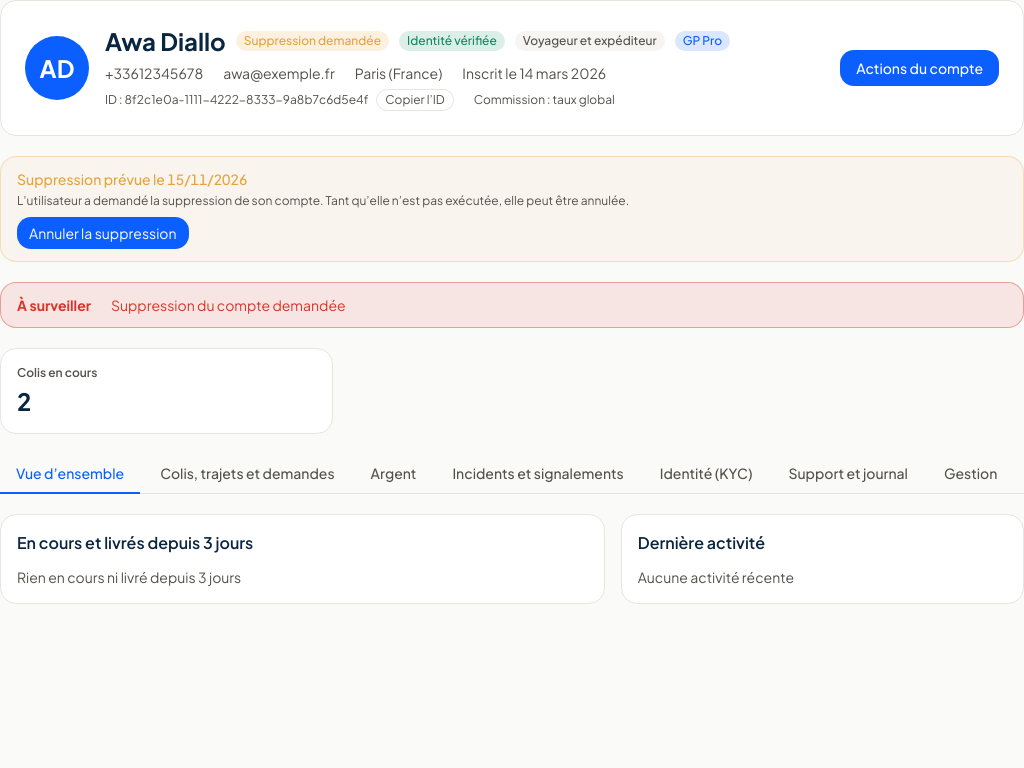
users/[id].vue › bandeaux d’en-tête › endpoint absent : texte à la place du bouton, dialogue fermé
Click the button with test id "action-cancel-deletion".
click(103, 233)  # box [17,217,188,249]
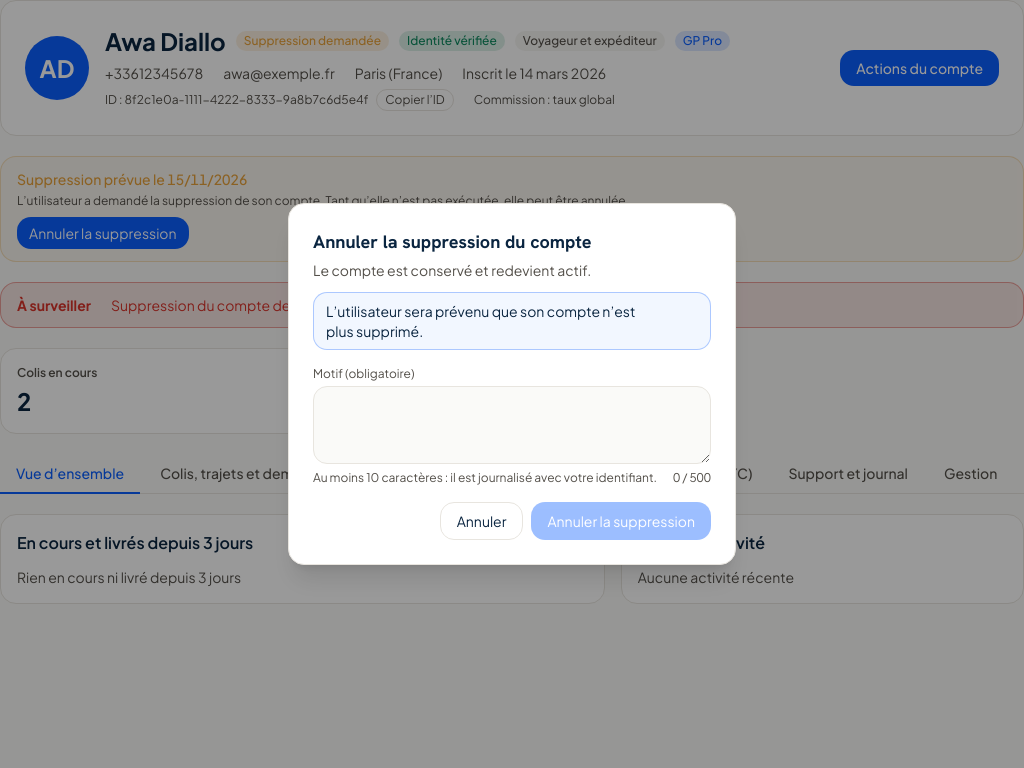
Type "Demande confirmée par téléphone" into the text box with test id "restore-reason".
click(512, 425); type("Demande confirmée par téléphone")  # box [313,386,711,464]
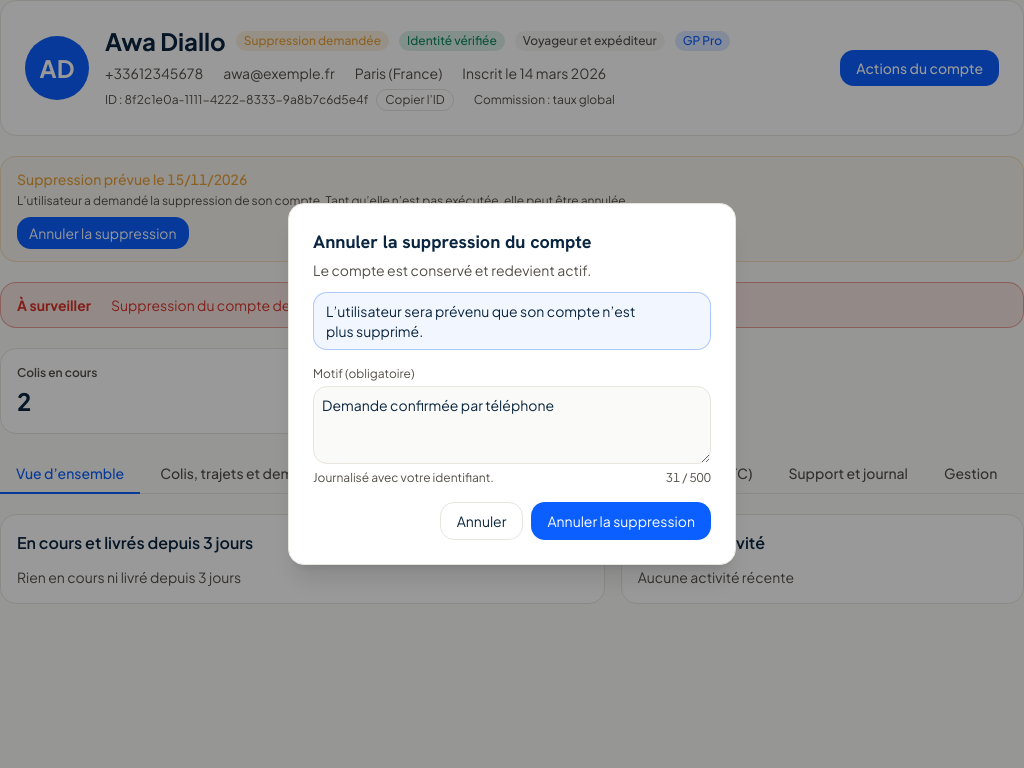
Click the button with test id "restore-confirm".
click(621, 521)  # box [532,502,711,540]
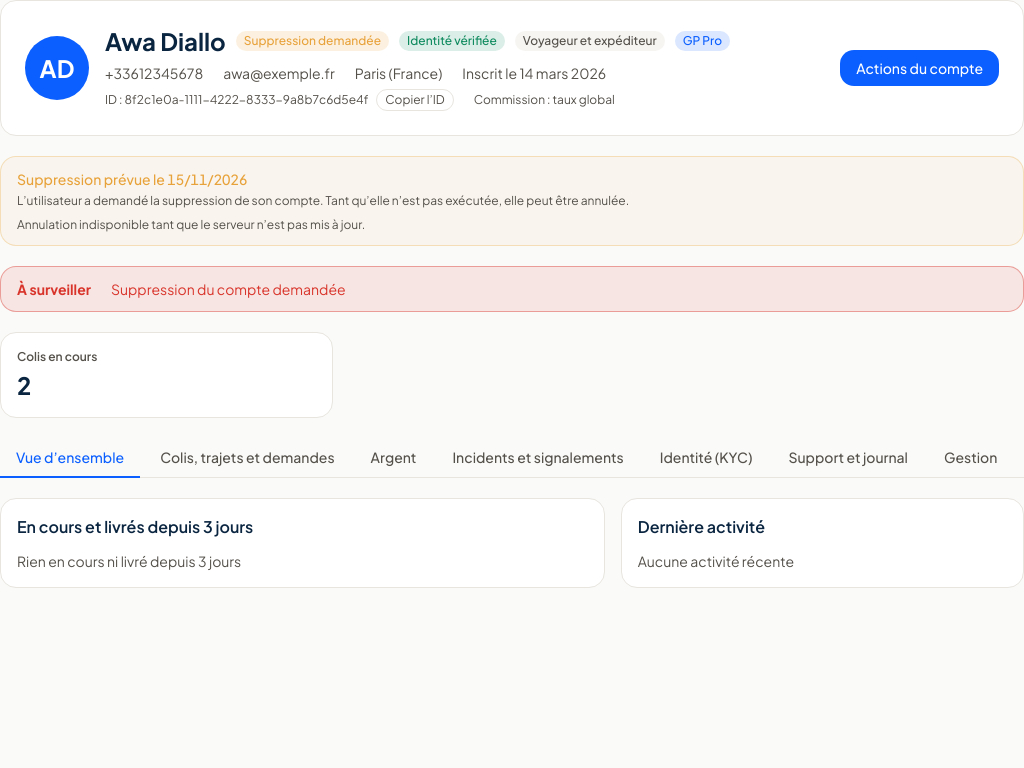
expect the text with test id "cancel-deletion-unavailable" is shown: met, box [17,217,365,232]
